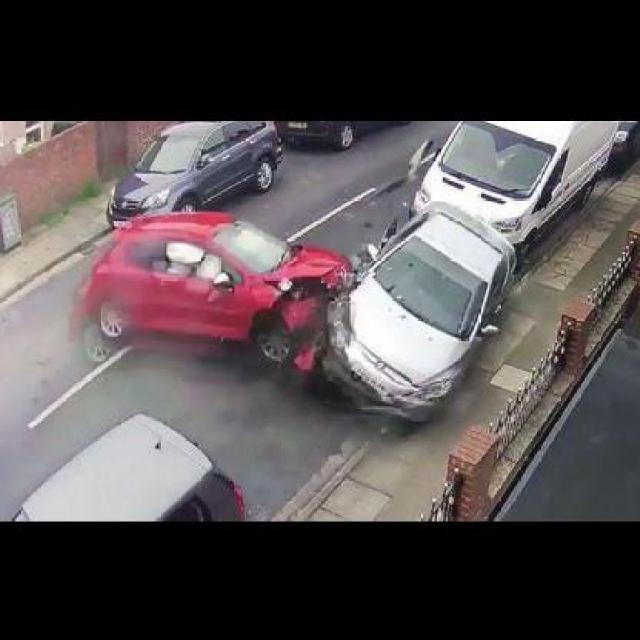accident: (80, 198, 520, 430)
